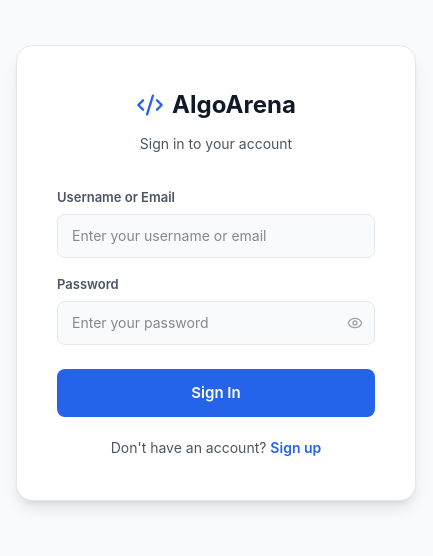
Test: Login Page › Validation › should show error when submitting empty form
Click the button "Sign In". click: point(216, 393)
box: [57,369,375,417]
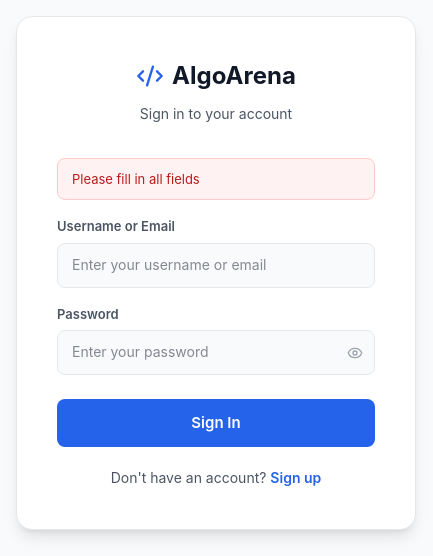
expect the text "Please fill in all fields" is shown: met, box [57,158,375,200]
